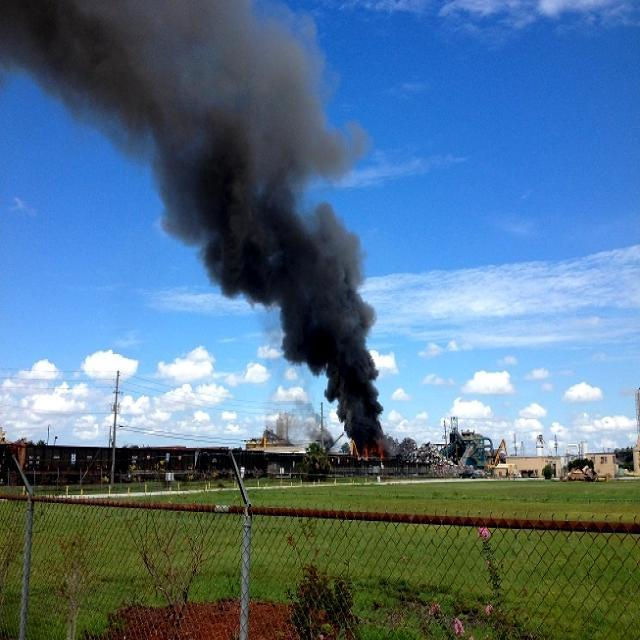Smoke: (0, 0, 299, 233), (197, 98, 388, 445)
